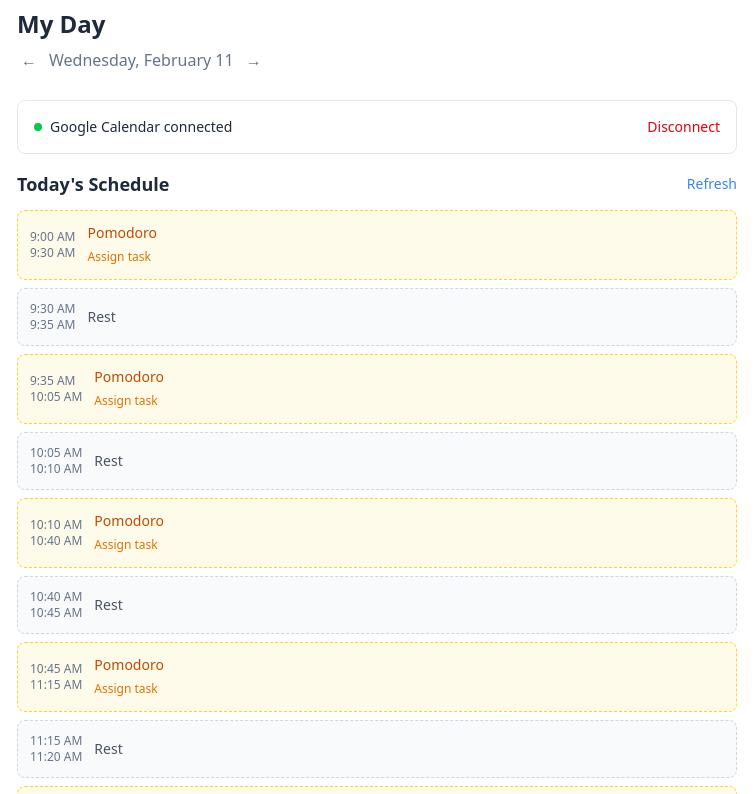
Test: MyDay view — Day Navigation › shows 'Yesterday' when clicking previous day
The width and height of the screenshot is (754, 794).
Click the button named "previous day": (29, 60) [17,44,41,76]
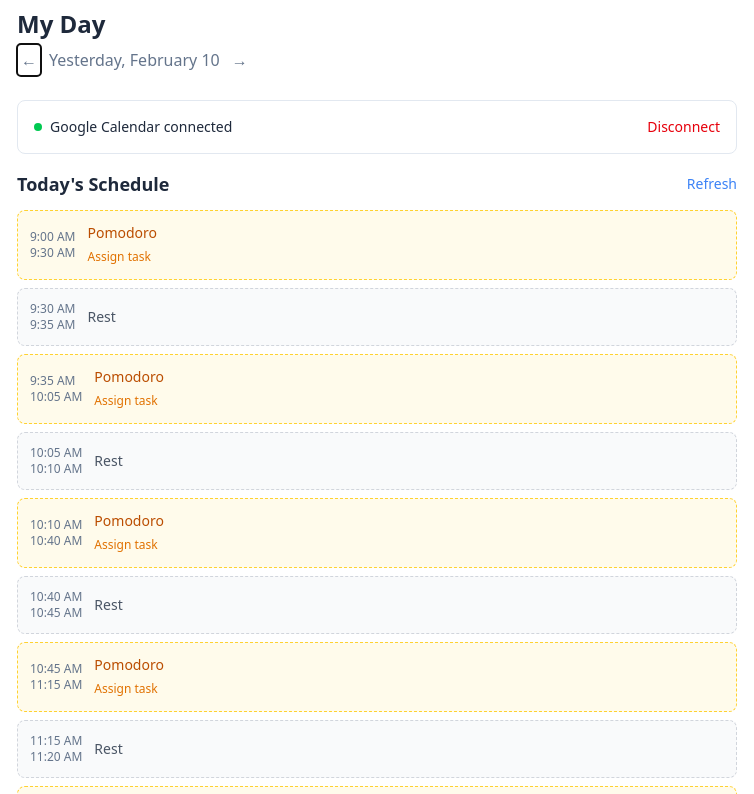
Now the text "Yesterday, February 10" is shown, box [49,48,220,72]
